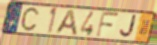1: (47, 7, 59, 36)
4: (79, 10, 94, 38)
A: (53, 9, 78, 37)
C: (20, 7, 40, 32)
F: (95, 11, 120, 39)
J: (118, 15, 137, 40)
